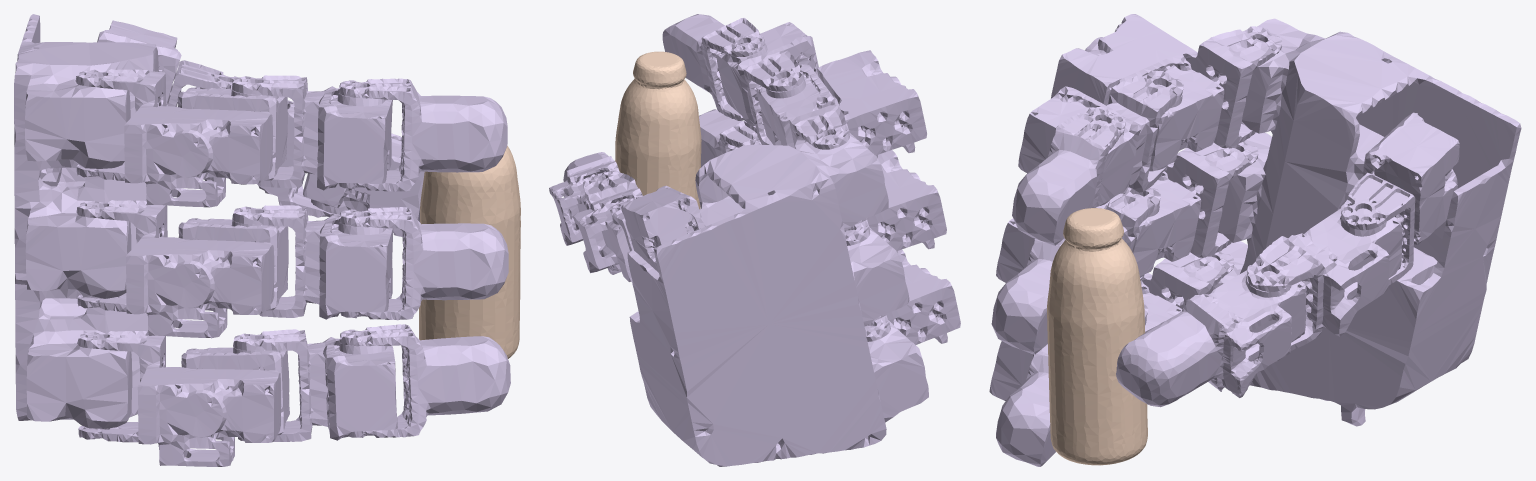
3 views of the same model, side by side, from view 1: azimuth 30°, elevation 25°; view 2: azimuth 150°, elevation 25°; view 3: azimuth 270°, elevation 25° (orthographic). The views are drawn at different scales.
Visible parts, largest first — view 1: LEAP_hand, world; view 2: LEAP_hand, world; view 3: LEAP_hand, world.
Part boxes in pixels (x1=…): LEAP_hand: x1=14, y1=14, x2=510, y2=466; world: x1=419, y1=146, x2=520, y2=358; LEAP_hand: x1=549, y1=14, x2=960, y2=466; world: x1=615, y1=51, x2=701, y2=209; LEAP_hand: x1=989, y1=14, x2=1521, y2=466; world: x1=1047, y1=208, x2=1147, y2=465.
Bounding box in the file's own units: 0.1782 × 0.135 × 0.1862.
